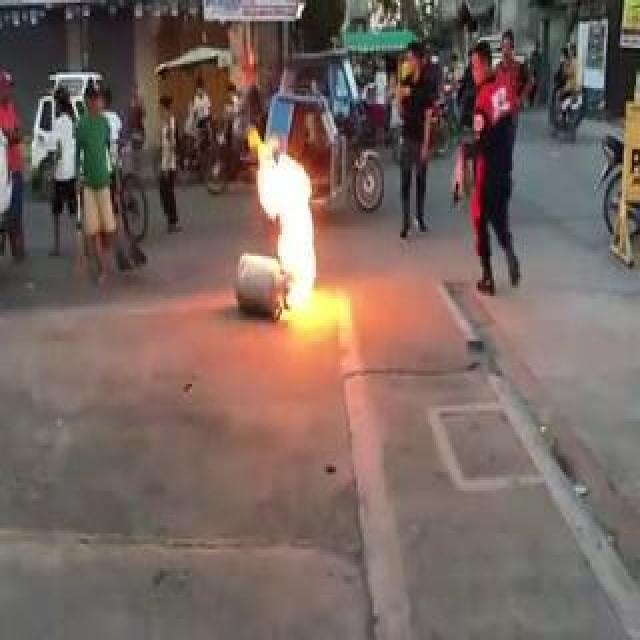Smoke: (247, 118, 318, 317)
